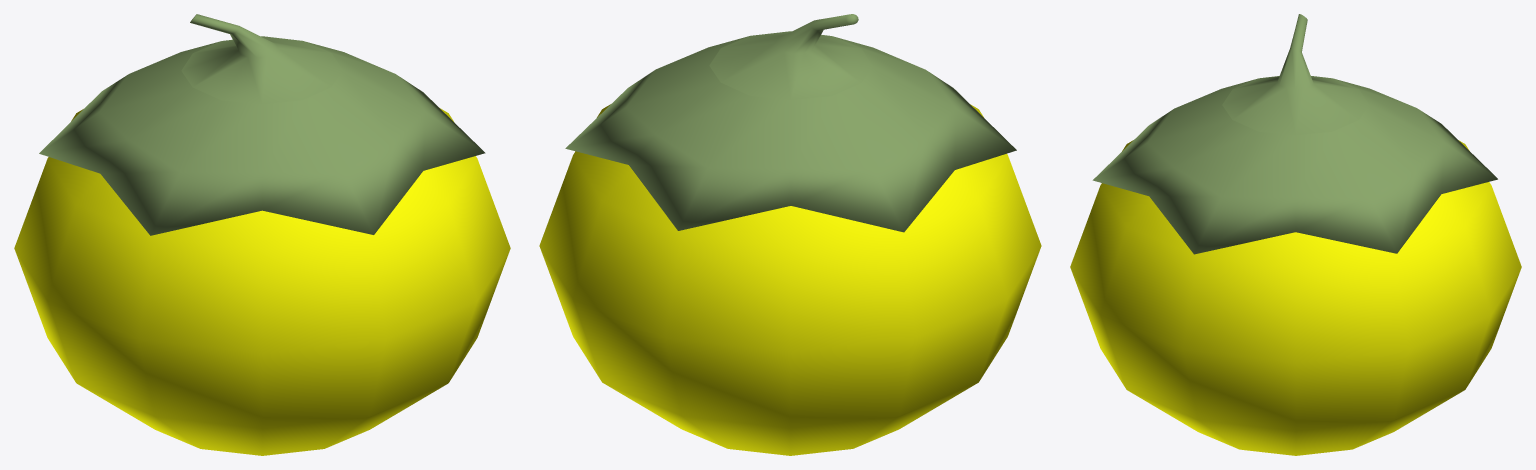
Rendered from green-fruit.fbx.
3 renders of one model, left to right at view 1: azimuth 30°, elevation 25°; view 2: azimuth 150°, elevation 25°; view 3: azimuth 270°, elevation 25°, orthographic. The views are drawn at different scales.
Parts seen in each view (by area): view 1: polySurface1; view 2: polySurface1; view 3: polySurface1.
Boxes of the visible parts, <box> form: polySurface1: <box>14,14,510,455</box>; polySurface1: <box>539,14,1041,455</box>; polySurface1: <box>1070,14,1521,455</box>.
Bounding box in the file's own units: 16.21 × 15.34 × 16.21.
